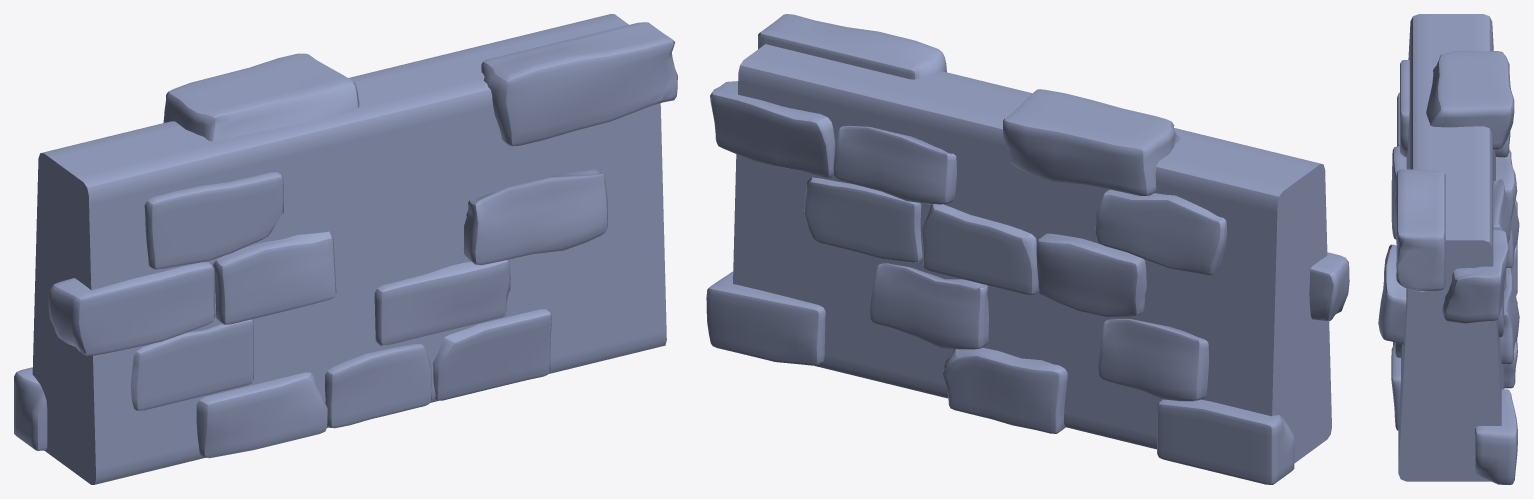
Rendered from Wall_L_1.fbx.
The picture shows the model from 3 angles, left to right: view 1: azimuth 30°, elevation 25°; view 2: azimuth 150°, elevation 25°; view 3: azimuth 270°, elevation 25°; orthographic projection. The views are drawn at different scales.
Parts seen in each view (by area): view 1: wall_L_A; view 2: wall_L_A; view 3: wall_L_A.
Boxes of the visible parts, bbox=[...] form: wall_L_A: bbox=[14, 14, 677, 484]; wall_L_A: bbox=[706, 14, 1349, 484]; wall_L_A: bbox=[1378, 14, 1519, 484].
Bounding box in the file's own units: 11.01 × 5.45 × 2.65.
